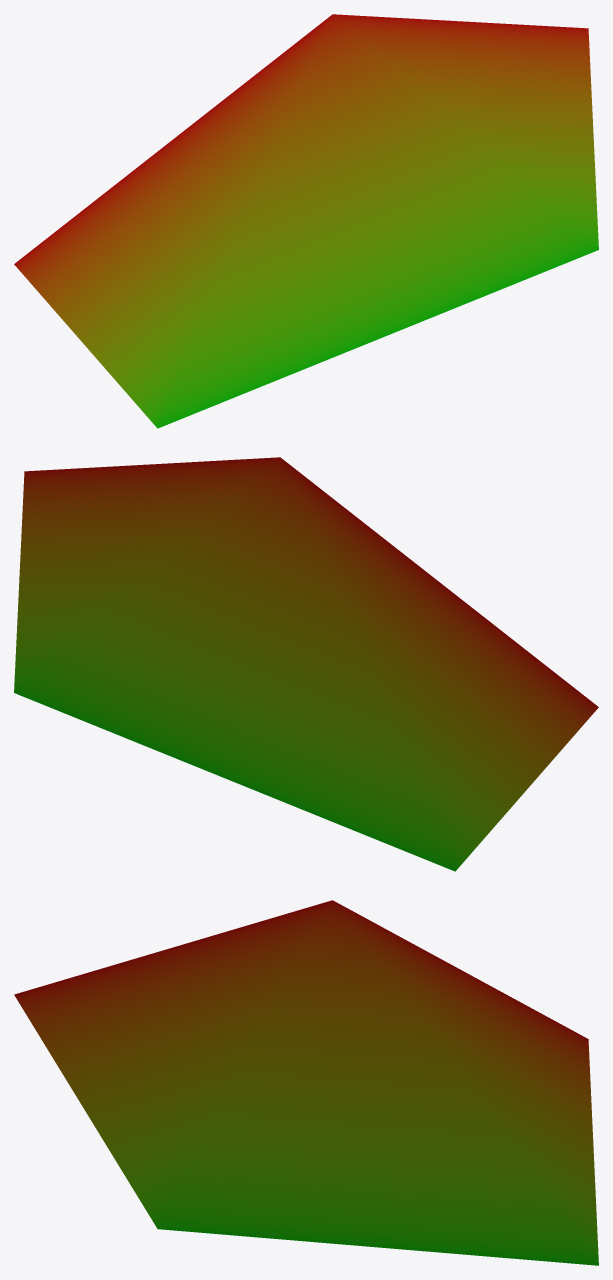
Rendered from Var1_LOD3.fbx.
3 renders of one model, top to bottom at view 1: azimuth 30°, elevation 25°; view 2: azimuth 150°, elevation 25°; view 3: azimuth 330°, elevation 25°, orthographic.
Parts seen in each view (by area): view 1: _526d_Var1_LOD3; view 2: _526d_Var1_LOD3; view 3: _526d_Var1_LOD3.
Boxes of the visible parts, left/top/right/bottom form: _526d_Var1_LOD3: left=14, top=14, right=598, bottom=428; _526d_Var1_LOD3: left=14, top=457, right=598, bottom=871; _526d_Var1_LOD3: left=14, top=900, right=598, bottom=1265.
Size of the model in its own units: 10.07 by 6.11 by 3.58e-07.
